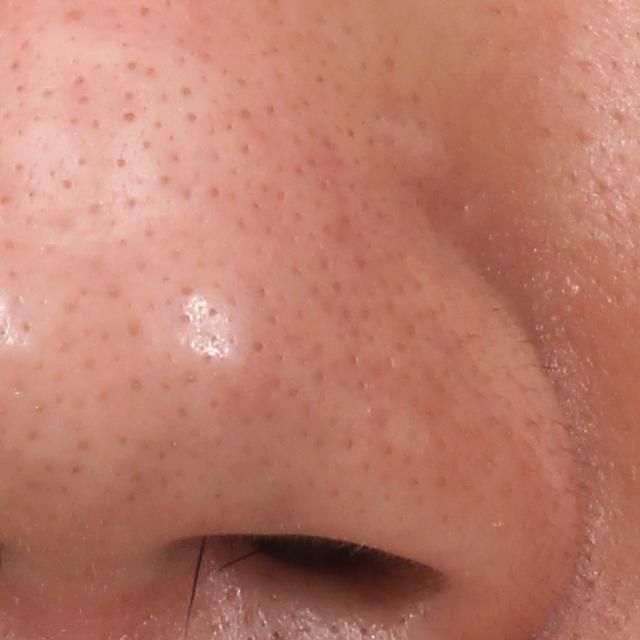hypertrophic_scar: (363, 109, 468, 181)
